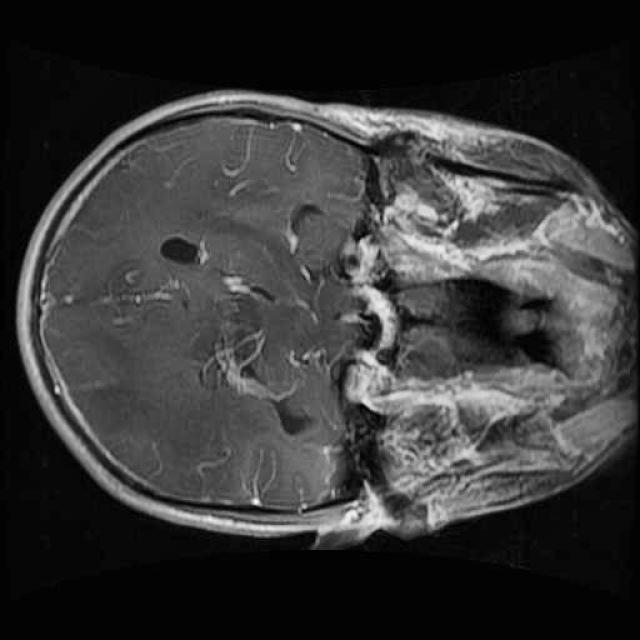Non-Tumor: (172, 231, 342, 436)
